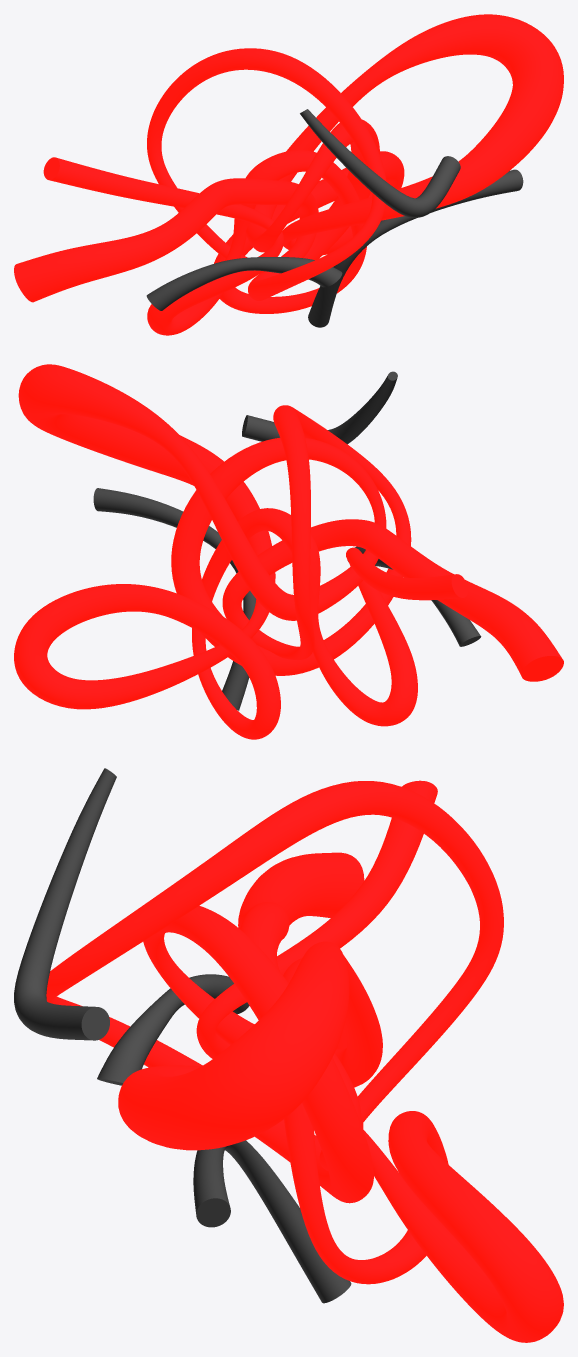
3 renders of one model, top to bottom at view 1: azimuth 30°, elevation 25°; view 2: azimuth 150°, elevation 25°; view 3: azimuth 270°, elevation 25°, orthographic. The views are drawn at different scales.
Parts seen in each view (by area): view 1: Lines.001_0, BezierCurve.001_2, BezierCurve.002_1, BezierCurve_3; view 2: Lines.001_0, BezierCurve_3, BezierCurve.001_2, BezierCurve.002_1; view 3: Lines.001_0, BezierCurve.001_2, BezierCurve_3, BezierCurve.002_1.
Part boxes in pixels (x1,y1,x2,y2): Lines.001_0: (14, 14, 563, 335); BezierCurve.001_2: (300, 109, 460, 217); BezierCurve.002_1: (146, 257, 342, 310); BezierCurve_3: (308, 169, 523, 327); Lines.001_0: (14, 364, 563, 739); BezierCurve_3: (93, 488, 256, 710); BezierCurve.001_2: (242, 371, 397, 444); BezierCurve.002_1: (347, 546, 481, 646); Lines.001_0: (46, 780, 563, 1342); BezierCurve.001_2: (14, 768, 116, 1040); BezierCurve_3: (193, 1140, 351, 1303); BezierCurve.002_1: (97, 974, 249, 1085).
Size of the model in its own units: 2.36 by 1.24 by 1.32.
